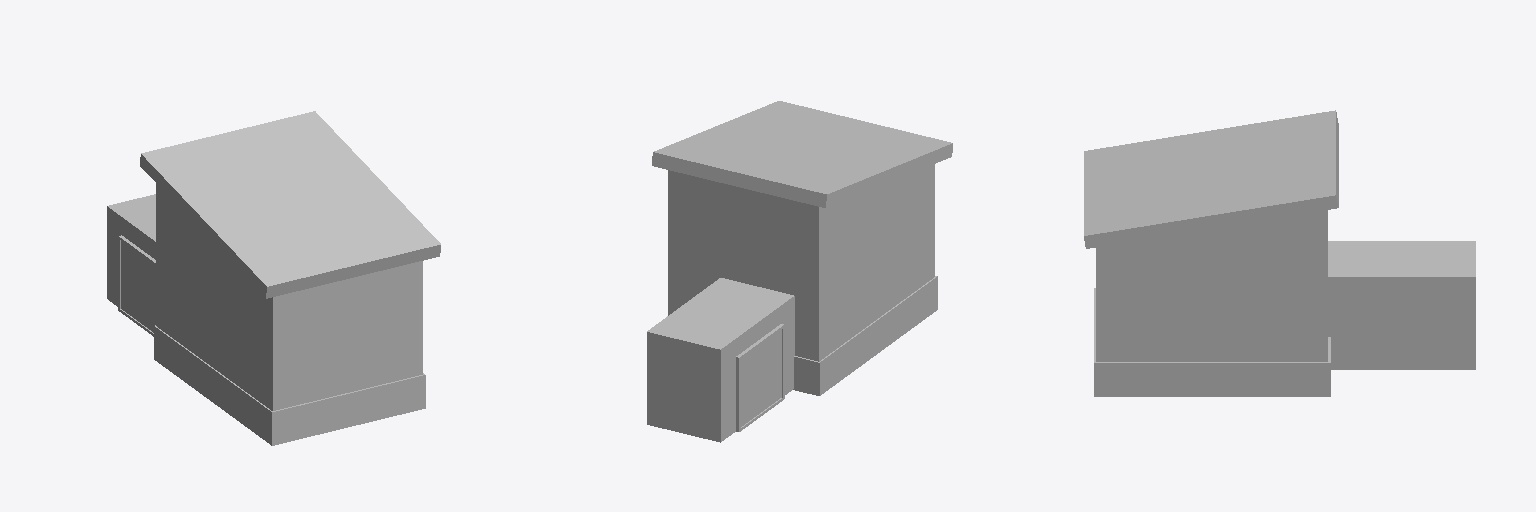
File: SmallSchool_Level1.obj
3 renders of one model, left to right at view 1: azimuth 30°, elevation 25°; view 2: azimuth 150°, elevation 25°; view 3: azimuth 270°, elevation 25°, orthographic.
Visible parts, largest first — view 1: Box187, Box184, Box185; view 2: Box187, Box185, Box184; view 3: Box187, Box185.
Part boxes in pixels (x1,y1,x2,y2): Box187: (140, 111, 440, 445); Box184: (118, 235, 155, 336); Box185: (107, 194, 155, 306); Box187: (652, 101, 952, 395); Box185: (647, 278, 794, 442); Box184: (736, 324, 784, 431); Box187: (1084, 110, 1338, 396); Box185: (1328, 241, 1475, 369).
Size of the model in its own units: 443 by 502 by 866.